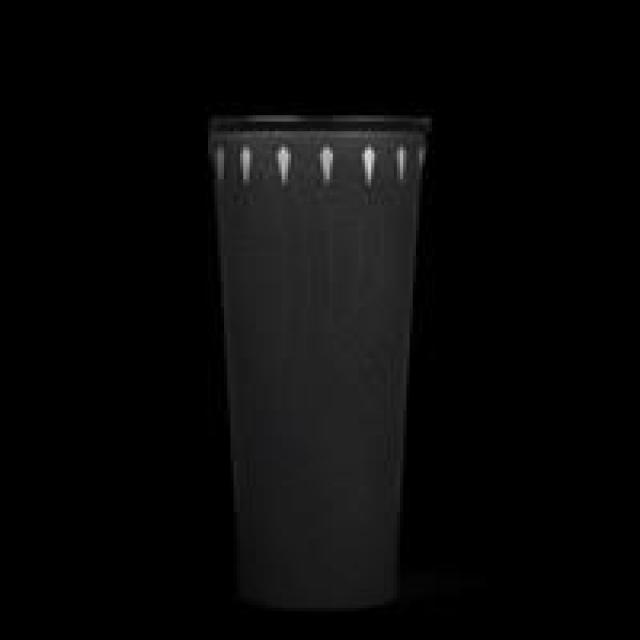bottle: (134, 107, 509, 638)
